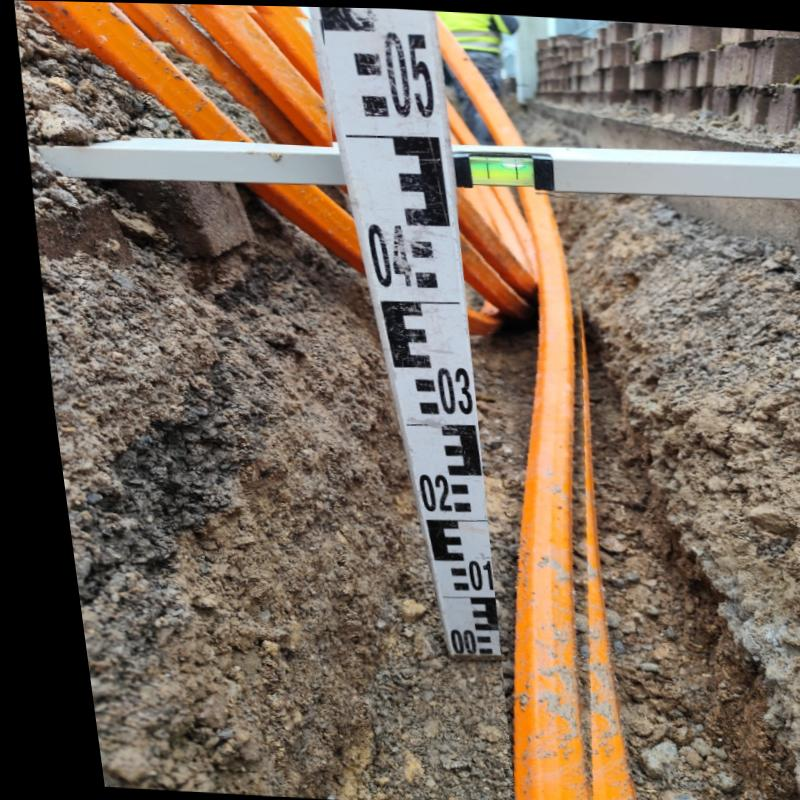Orang-Speednetrohrchen: (452, 181, 579, 800), (37, 1, 329, 145)
